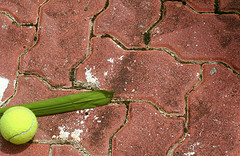tennis ball: (1, 105, 39, 145)
